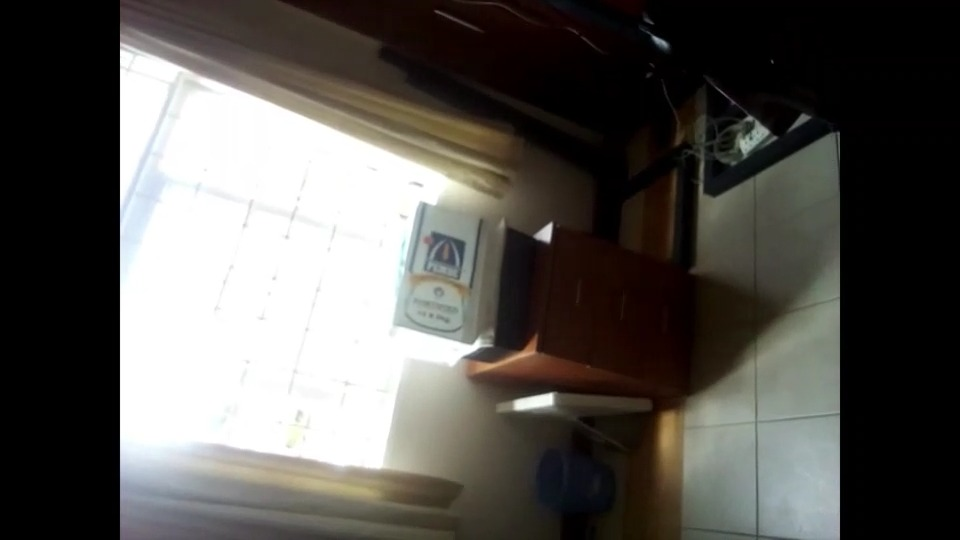wheat_flour_blue_label: (385, 199, 501, 340)
